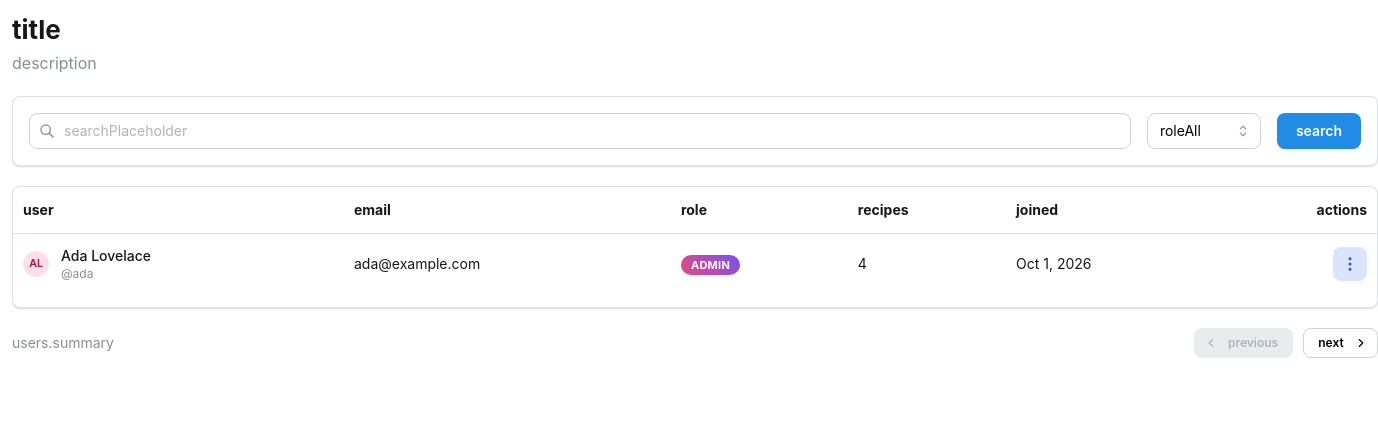
UsersView › does not open the details modal when the actions menu is used
This screenshot has width=1378, height=432.
What coordinates should you click on to do the following:
click the button with test id "admin-user-actions-u1"
I would click on:
 (1350, 264)
Its box is left=1333, top=247, right=1367, bottom=281.
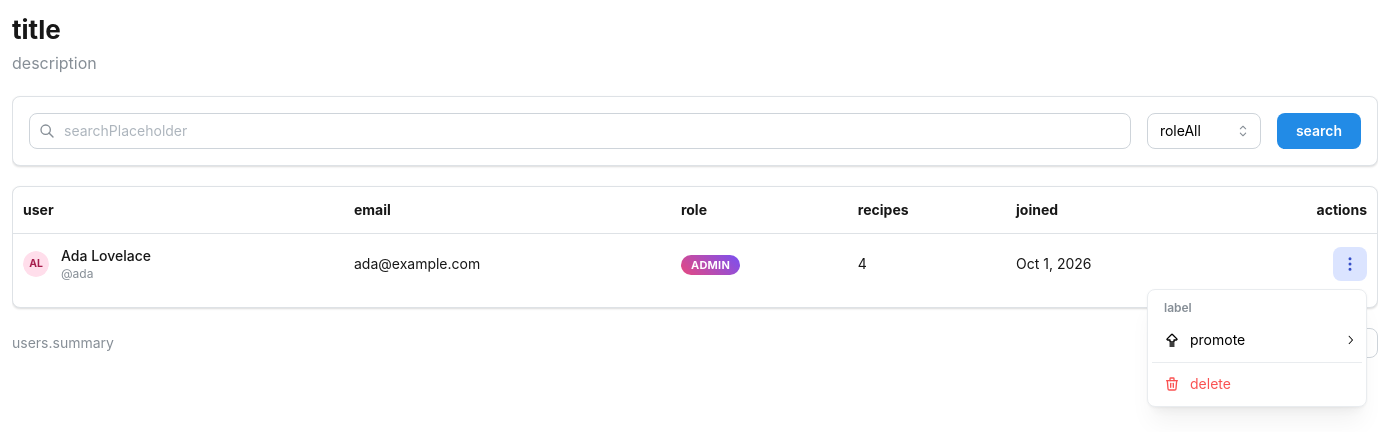
Check: the menu item with test id "admin-user-actions-delete-u1" is shown, box left=1152, top=367, right=1362, bottom=402
